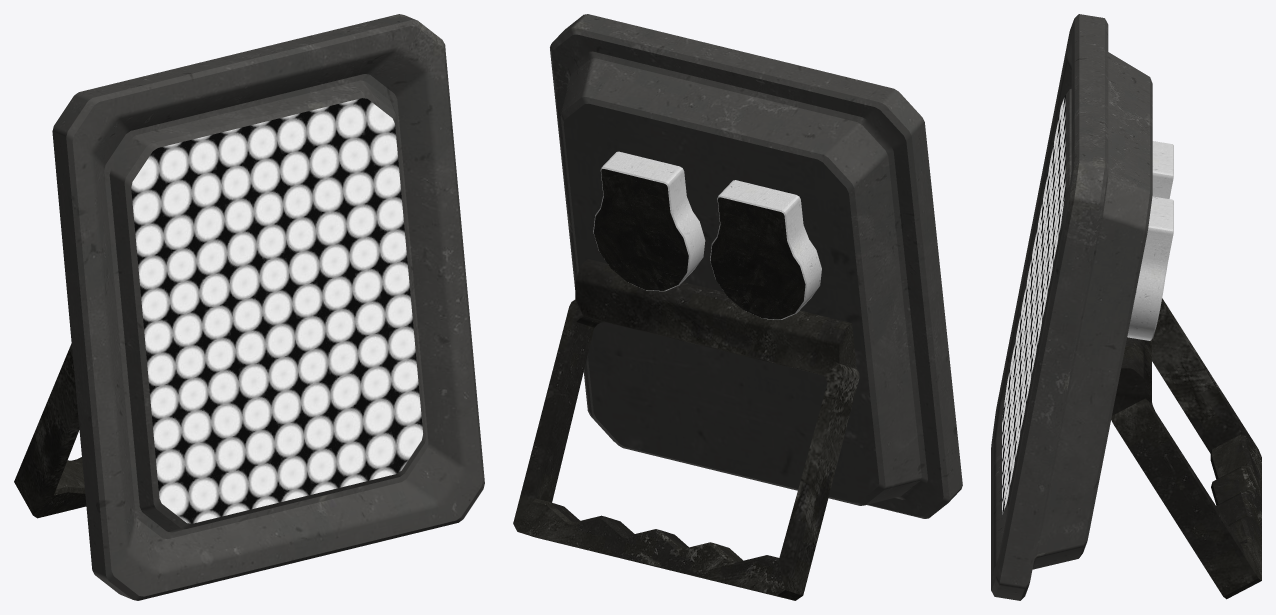
File: SM_Standing_Floodlight.glb
The picture shows the model from 3 angles, left to right: view 1: azimuth 30°, elevation 25°; view 2: azimuth 150°, elevation 25°; view 3: azimuth 270°, elevation 25°; orthographic projection. The views are drawn at different scales.
Parts seen in each view (by area): view 1: SM_Standing_Floodlight; view 2: SM_Standing_Floodlight; view 3: SM_Standing_Floodlight.
Boxes of the visible parts, x1=… form: SM_Standing_Floodlight: x1=14, y1=14, x2=484, y2=600; SM_Standing_Floodlight: x1=513, y1=14, x2=962, y2=600; SM_Standing_Floodlight: x1=991, y1=14, x2=1261, y2=600.
Bounding box in the file's own units: 0.1861 × 0.2272 × 0.1238.
4 materials, 4 textured.
